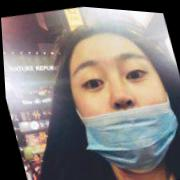WRONG: (60, 28, 180, 174)
